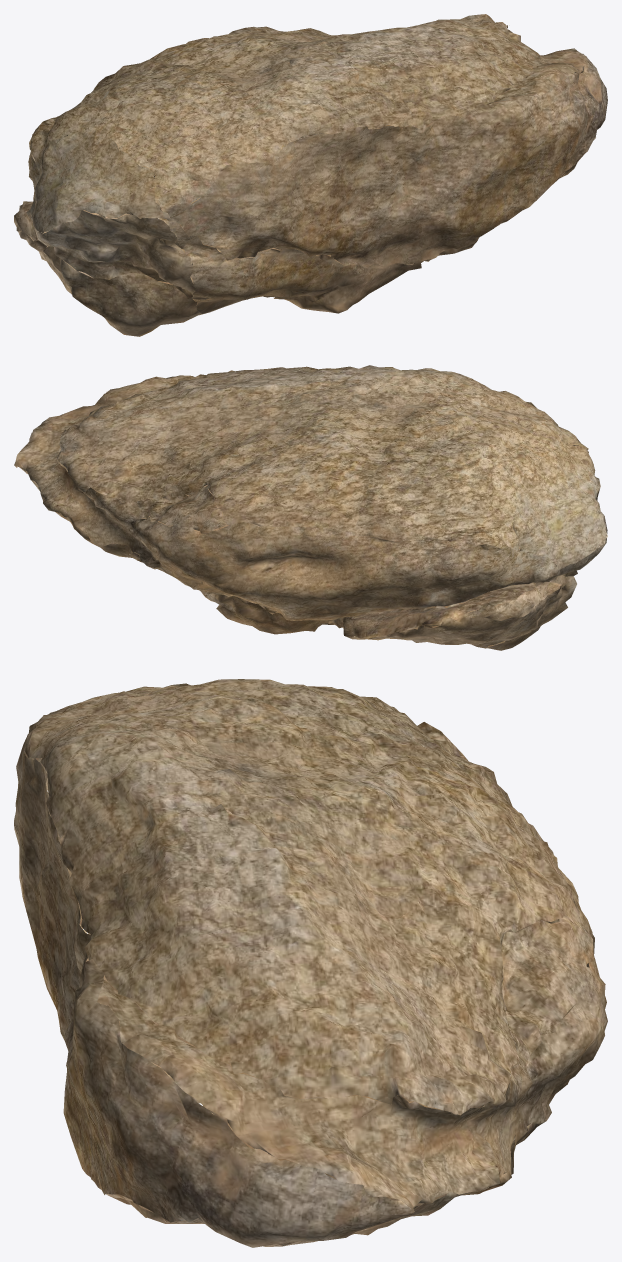
Rendered from ph_namaqualand_boulder_05.glb.
The picture shows the model from 3 angles, top to bottom: view 1: azimuth 30°, elevation 25°; view 2: azimuth 150°, elevation 25°; view 3: azimuth 270°, elevation 25°; orthographic projection. The views are drawn at different scales.
Parts seen in each view (by area): view 1: namaqualand_boulder_05; view 2: namaqualand_boulder_05; view 3: namaqualand_boulder_05.
Part boxes in pixels (x1,y1,x2,y2): namaqualand_boulder_05: (14,14,607,336); namaqualand_boulder_05: (14,365,607,650); namaqualand_boulder_05: (14,679,607,1247).
Bounding box in the file's own units: 1.37 × 0.5345 × 0.7459.
1 material, 1 textured.
